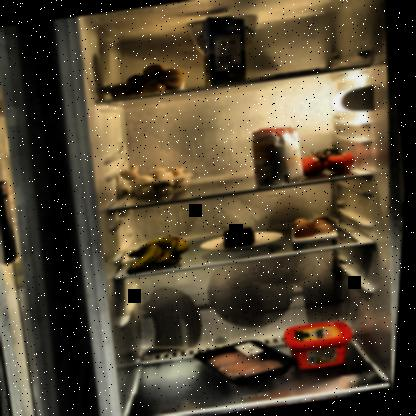banana: (123, 232, 197, 276)
butter: (284, 316, 363, 375)
cheese: (224, 224, 260, 250)
chicken: (195, 332, 307, 392)
chocolate: (265, 66, 322, 79)
eggs: (292, 211, 340, 240)
milk: (194, 10, 254, 88)
mushrooms: (120, 155, 198, 202)
potato: (103, 58, 192, 100)
tomato: (296, 132, 359, 178)
